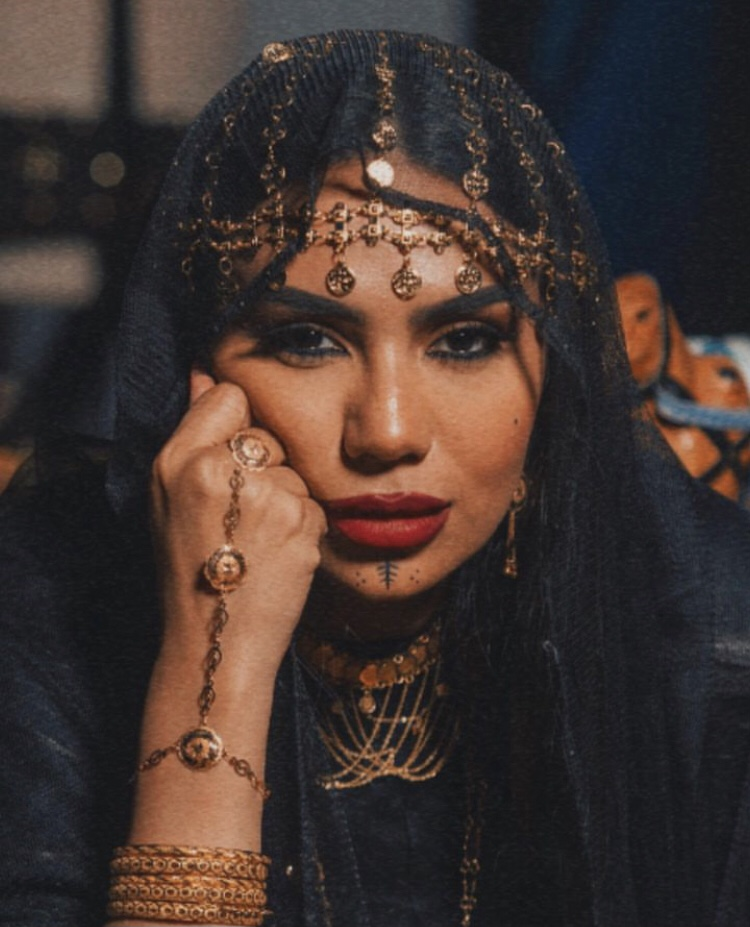Saudi_Founding_Day: (1, 28, 750, 927)
